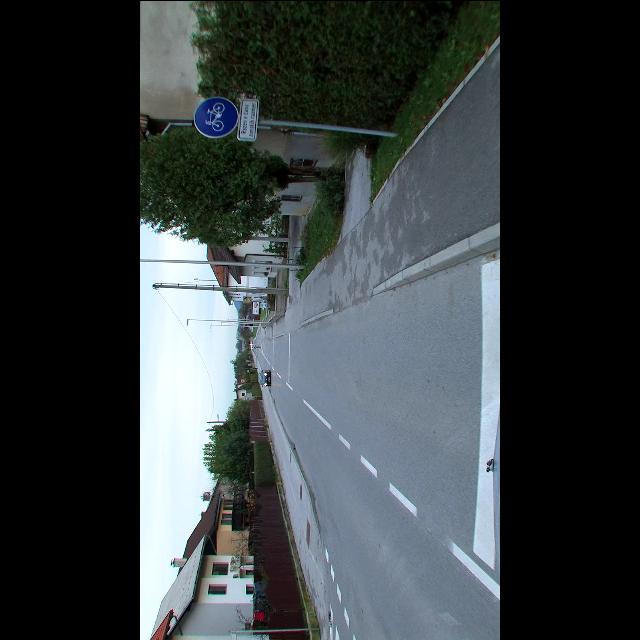Rectangle: (238, 96, 262, 140)
Round: (194, 96, 238, 136)
